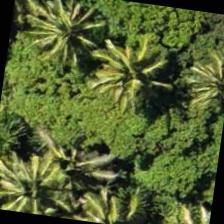Kelapa_Sawit: (80, 16, 182, 118), (17, 0, 119, 82), (0, 138, 81, 220), (65, 159, 163, 223), (174, 35, 223, 132)
